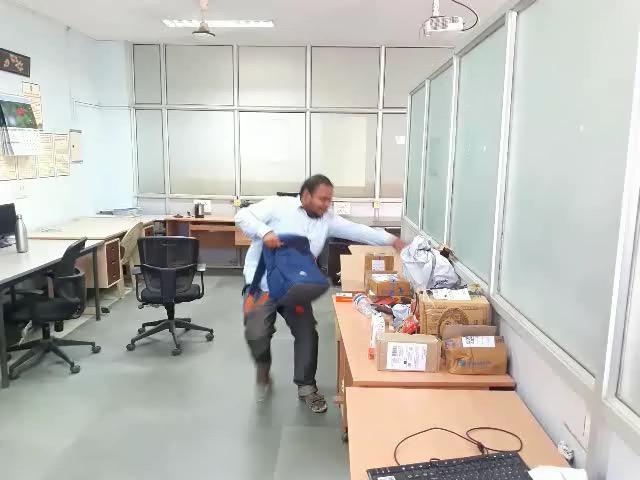Shoplifting: (225, 148, 480, 431)
